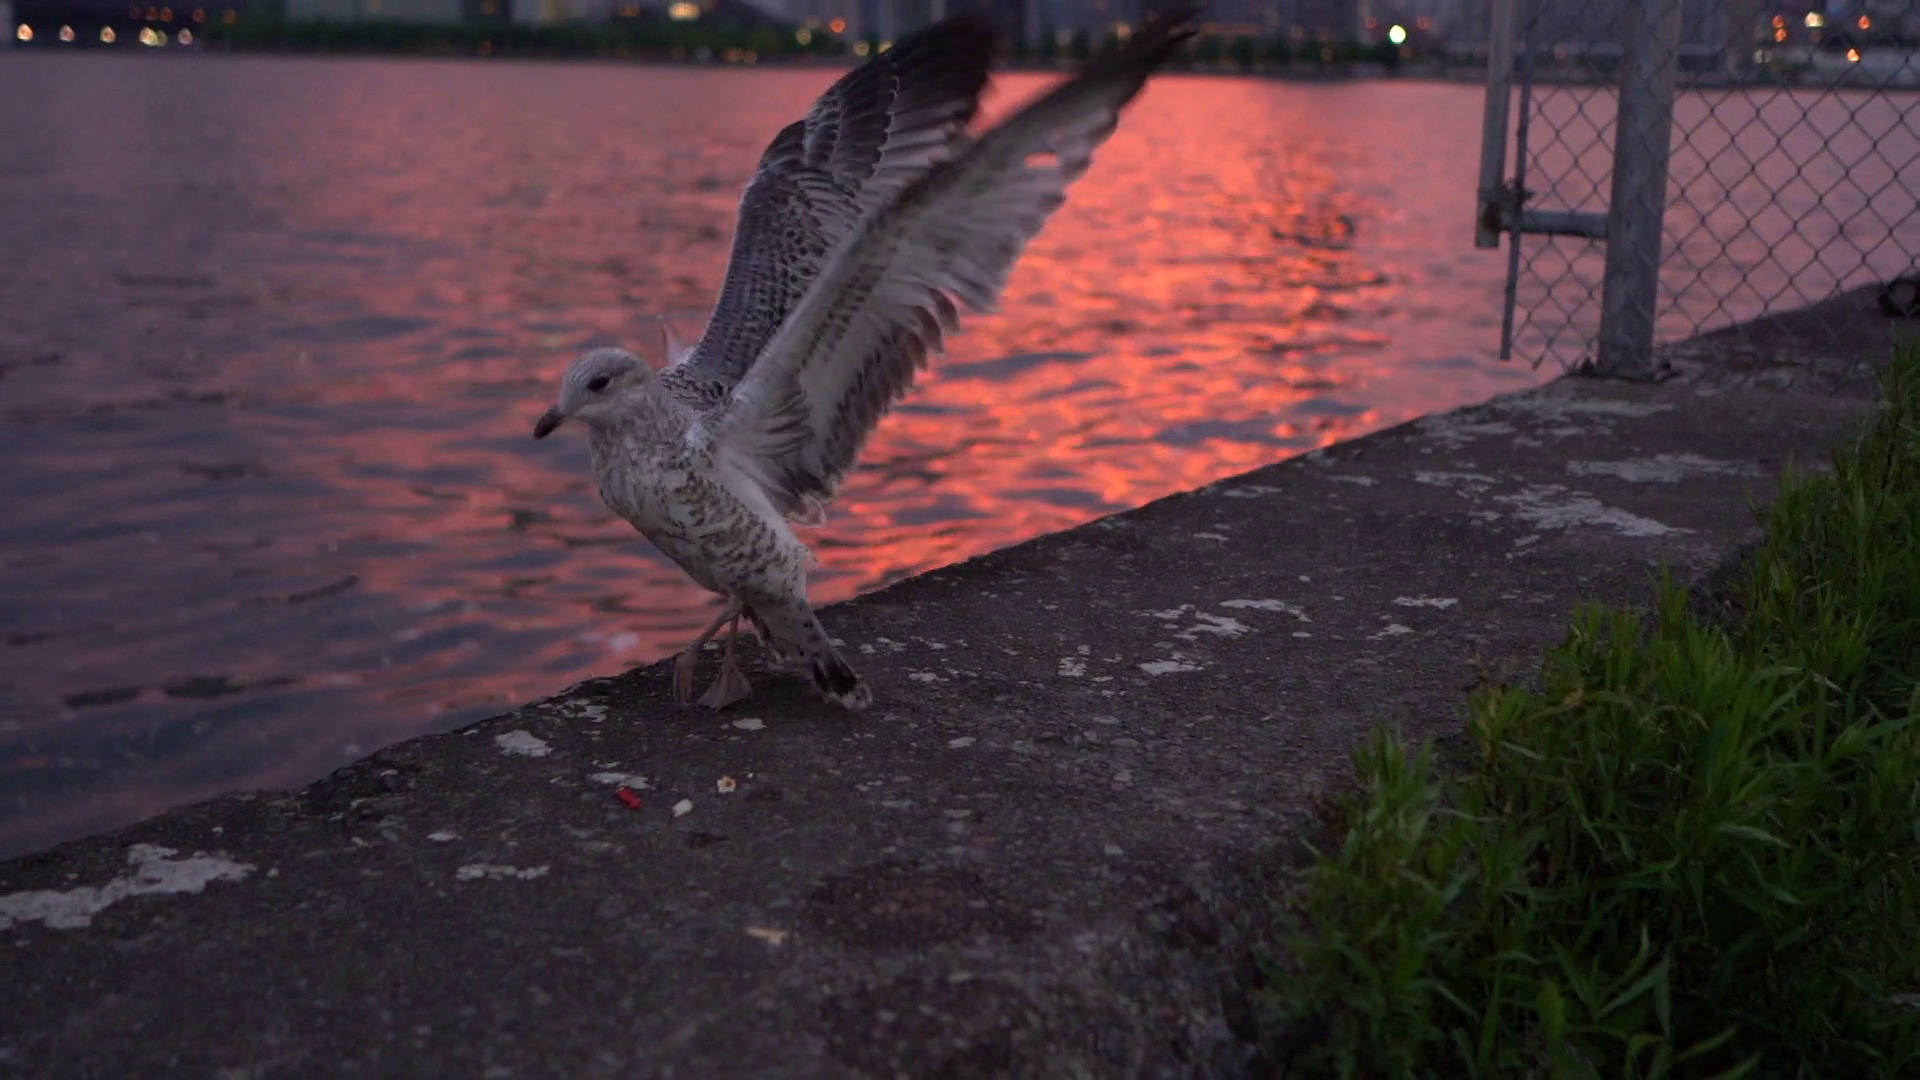bird: (530, 0, 1203, 715)
